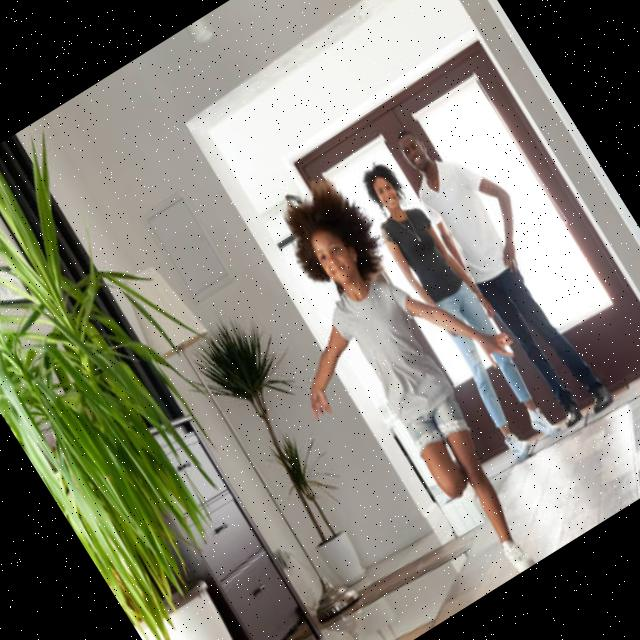Person: (210, 136, 620, 620), (385, 101, 632, 432), (344, 154, 564, 462)
